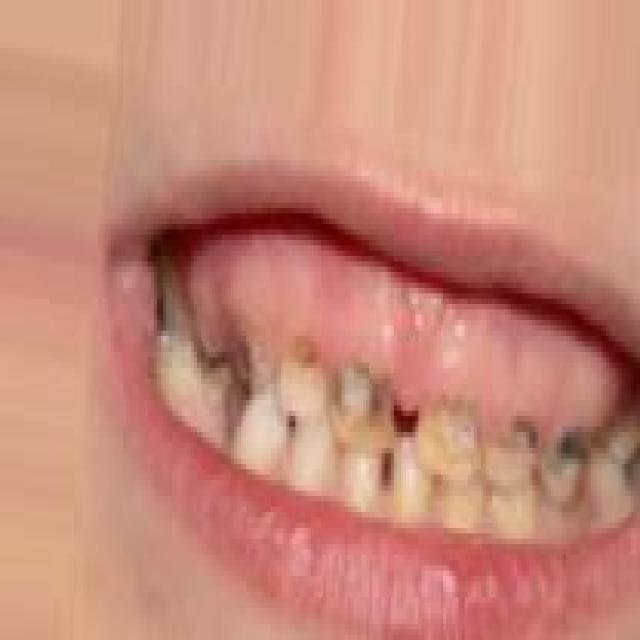caries: (405, 389, 487, 488), (330, 356, 399, 457), (534, 417, 596, 516), (274, 332, 334, 432), (482, 407, 536, 493)
